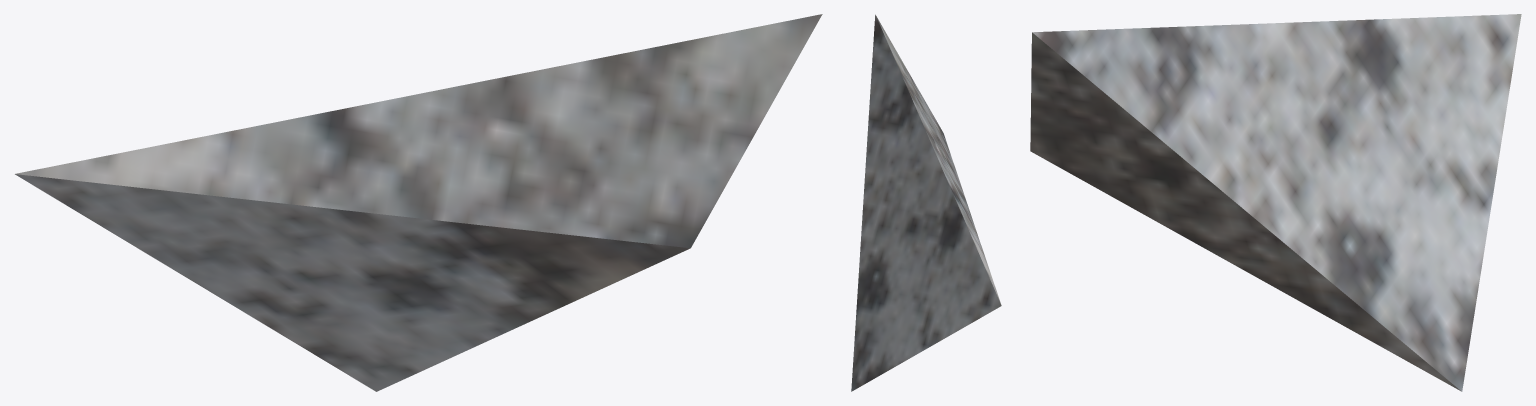
File: Asteroid_Medium_001_02_002_03_006.fbx
3 views of the same model, side by side, from view 1: azimuth 30°, elevation 25°; view 2: azimuth 150°, elevation 25°; view 3: azimuth 270°, elevation 25° (orthographic). The views are drawn at different scales.
Visible parts, largest first — view 1: Asteroid_Medium_001_02_002_03_006; view 2: Asteroid_Medium_001_02_002_03_006; view 3: Asteroid_Medium_001_02_002_03_006.
Part boxes in pixels (box(x1,y1,x2,y2)): Asteroid_Medium_001_02_002_03_006: box(15, 14, 822, 391); Asteroid_Medium_001_02_002_03_006: box(851, 14, 1001, 391); Asteroid_Medium_001_02_002_03_006: box(1030, 14, 1521, 391).
Bounding box in the file's own units: 2.37 × 2.19 × 2.19.
